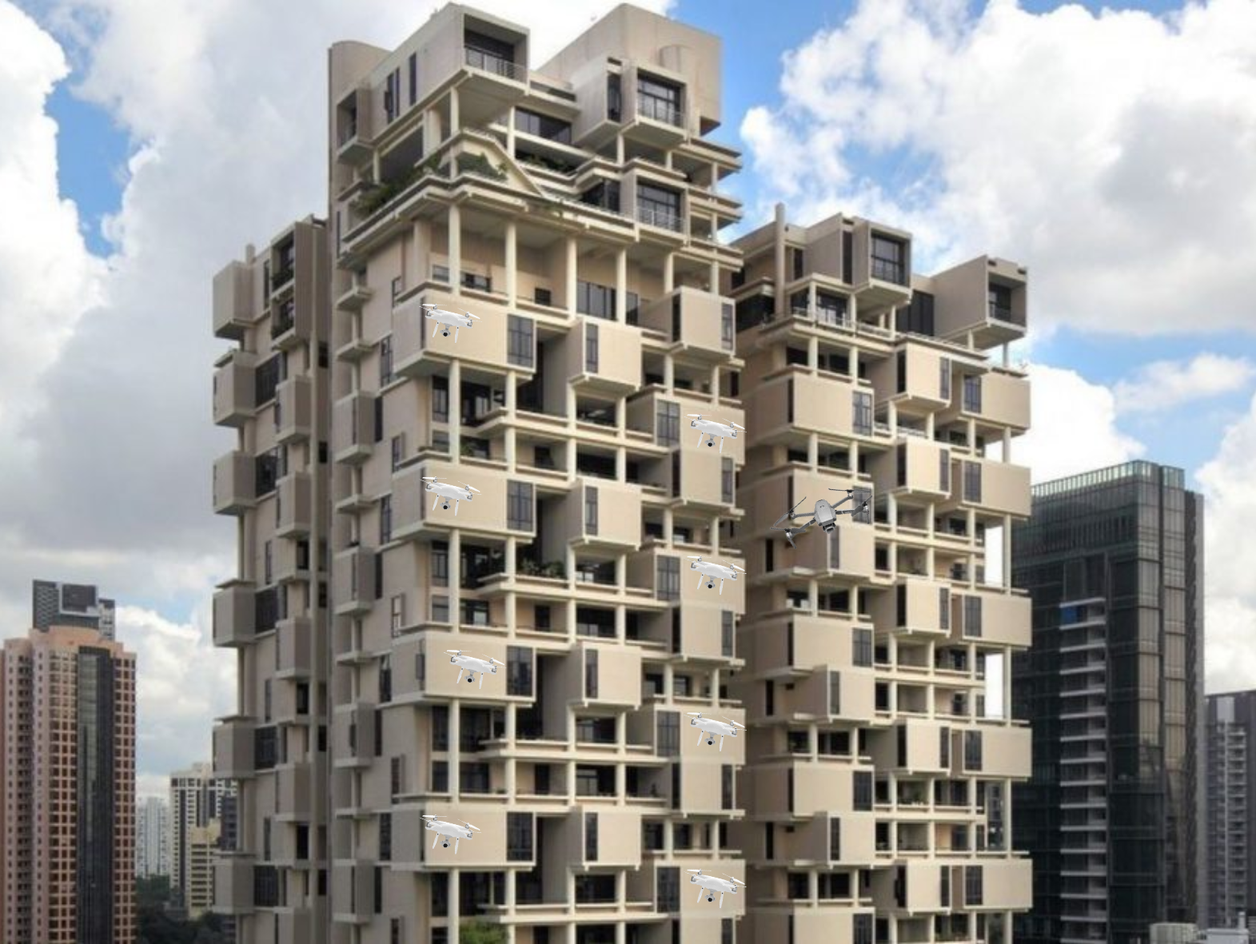drone_other: (774, 483, 874, 547), (440, 645, 507, 694), (680, 708, 748, 756), (683, 553, 746, 601), (417, 473, 481, 520), (415, 299, 480, 345), (686, 867, 751, 912), (687, 408, 748, 454), (421, 810, 483, 854)
